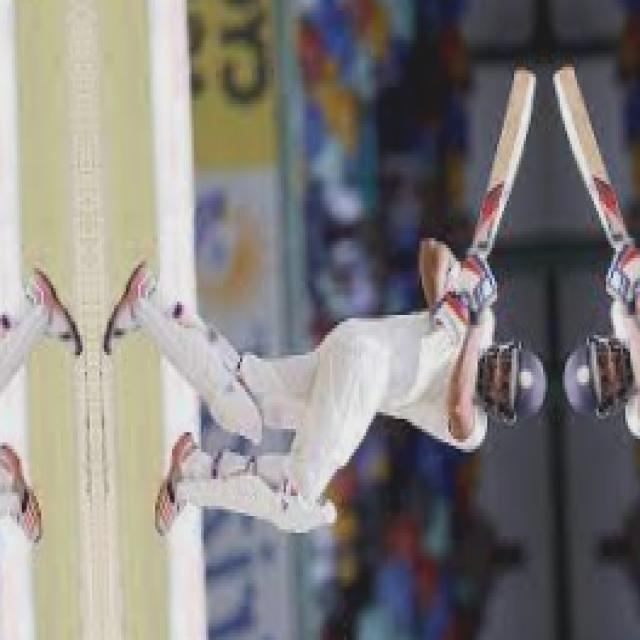toe: (506, 67, 540, 91)
